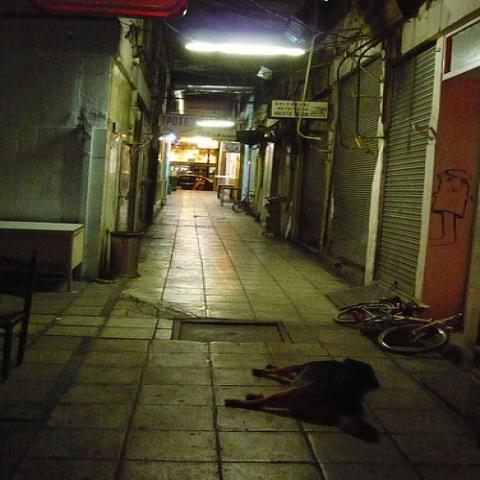car: (176, 174, 214, 190)
